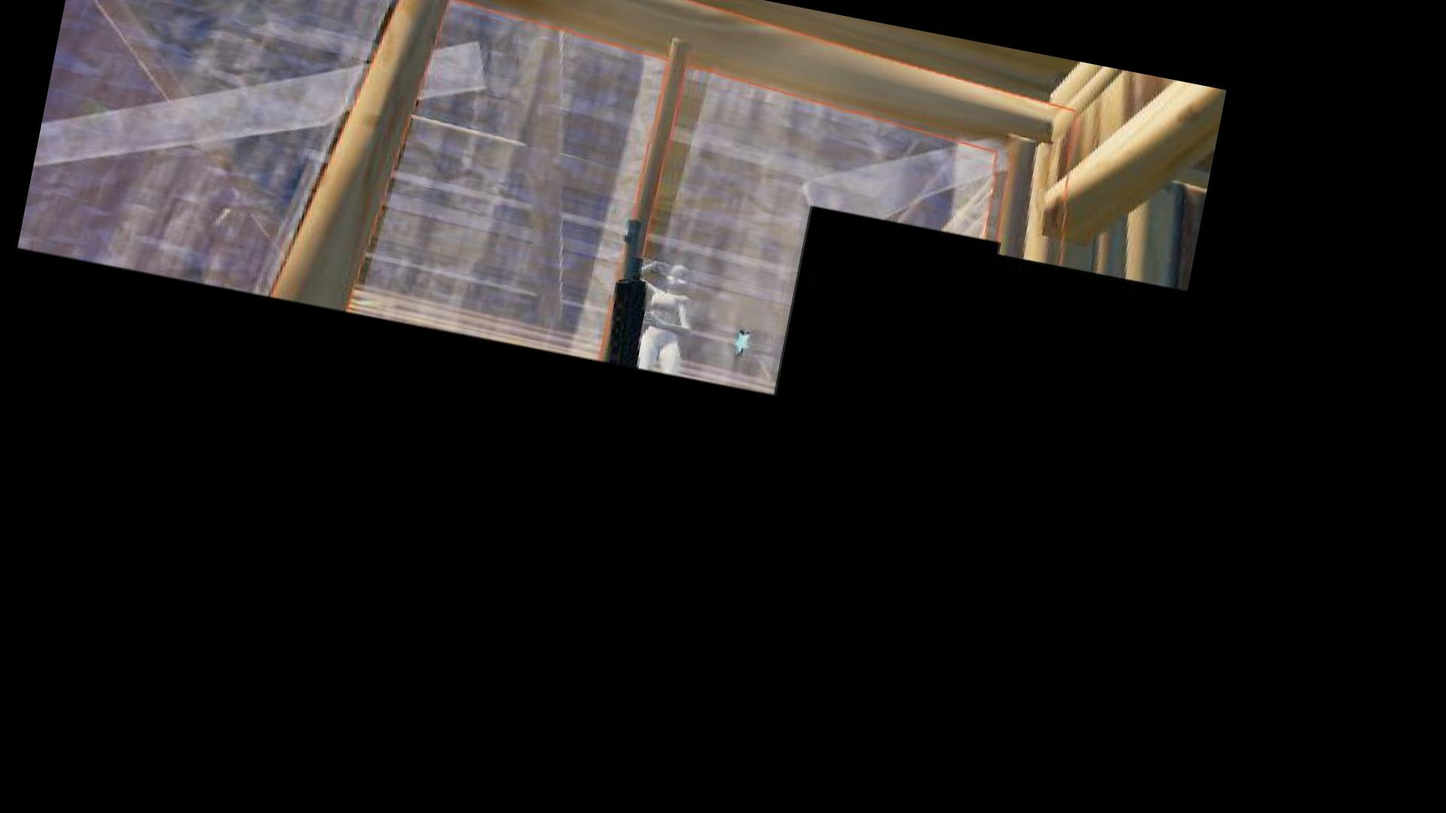player: (619, 254, 710, 382)
